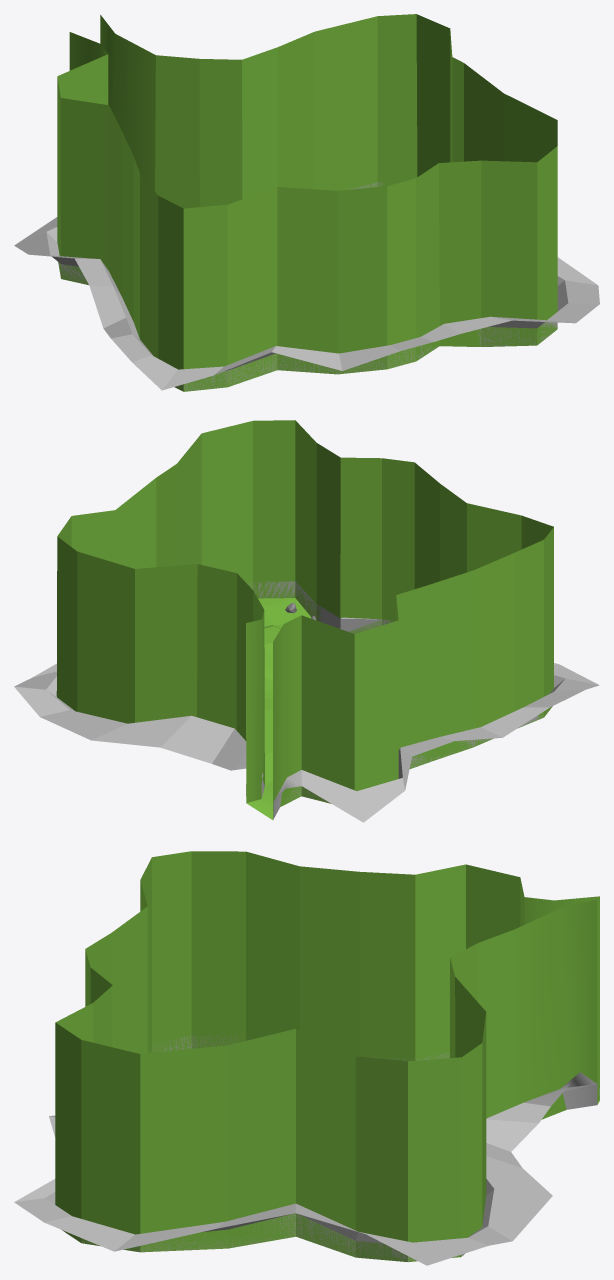
3 renders of one model, top to bottom at view 1: azimuth 30°, elevation 25°; view 2: azimuth 150°, elevation 25°; view 3: azimuth 270°, elevation 25°, orthographic. The views are drawn at different scales.
Parts seen in each view (by area): view 1: simple, level30; view 2: simple, level30; view 3: simple, level30.
Boxes of the visible parts, x1,y1,x2,y2 form: simple: [57, 14, 557, 391]; level30: [14, 182, 599, 391]; simple: [56, 420, 553, 819]; level30: [14, 581, 599, 822]; simple: [55, 851, 599, 1261]; level30: [14, 1035, 599, 1265].
Size of the model in its own units: 93.51 by 40.06 by 93.72.
